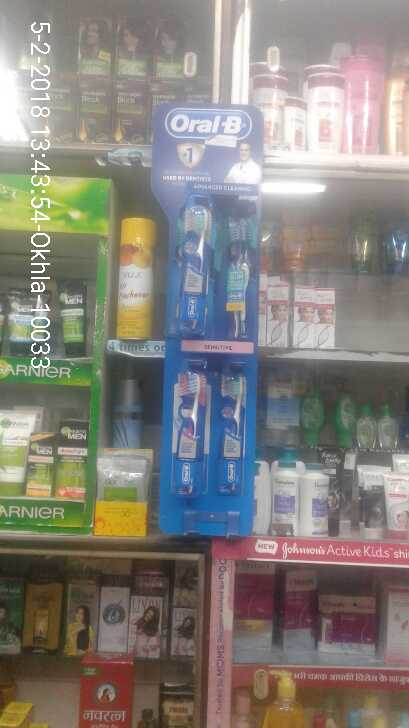oralb: (219, 199, 258, 350), (177, 199, 214, 342), (216, 378, 252, 489), (168, 370, 200, 490)
